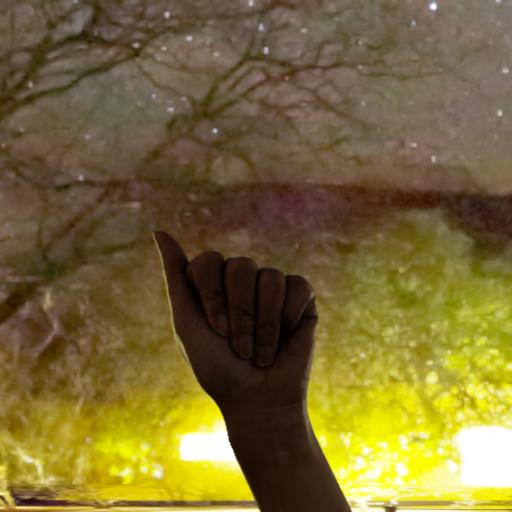A: (145, 226, 339, 427)
